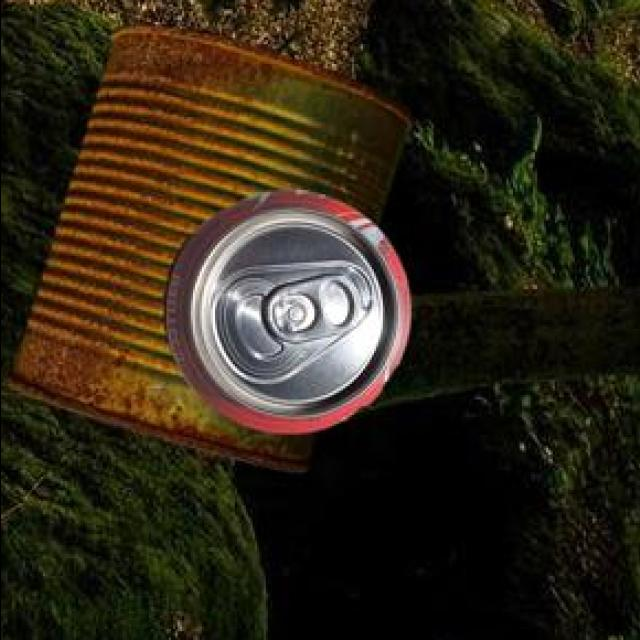logam: (8, 28, 416, 476), (167, 193, 412, 436)
